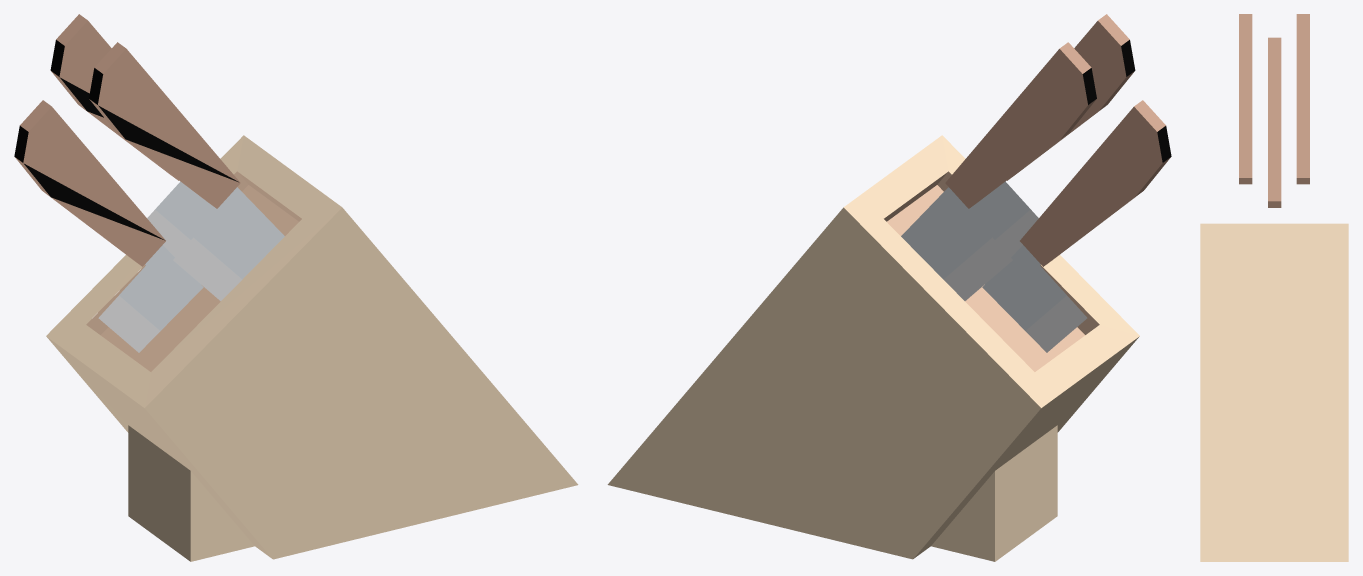
The model's file is knifeblock.gltf.
The picture shows the model from 3 angles, left to right: view 1: azimuth 30°, elevation 25°; view 2: azimuth 150°, elevation 25°; view 3: azimuth 270°, elevation 25°; orthographic projection. The views are drawn at different scales.
Parts seen in each view (by area): view 1: knifeBlock, cookingKnife, cookingKnife.001, cookingKnife.002; view 2: knifeBlock, cookingKnife.002, cookingKnife.001, cookingKnife; view 3: knifeBlock, cookingKnife, cookingKnife.001, cookingKnife.002.
Part boxes in pixels (x1,y1,x2,y2): knifeBlock: (46,135,578,561); cookingKnife: (89,42,284,300); cookingKnife.001: (14,100,203,352); cookingKnife.002: (50,14,220,257); knifeBlock: (607,135,1139,561); cookingKnife.002: (901,42,1096,300); cookingKnife.001: (982,100,1171,352); cookingKnife: (965,14,1135,257); knifeBlock: (1200,223,1348,561); cookingKnife: (1239,14,1252,184); cookingKnife.001: (1268,37,1281,207); cookingKnife.002: (1296,14,1309,184).
Size of the model in its own units: 0.6628 by 0.6472 by 0.2219.
